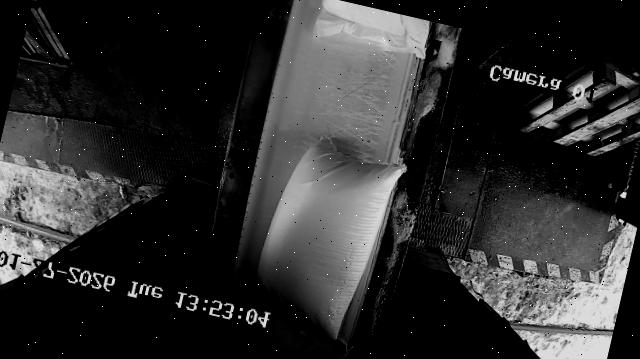bag: (245, 126, 411, 348), (309, 0, 432, 65), (245, 297, 356, 359)
